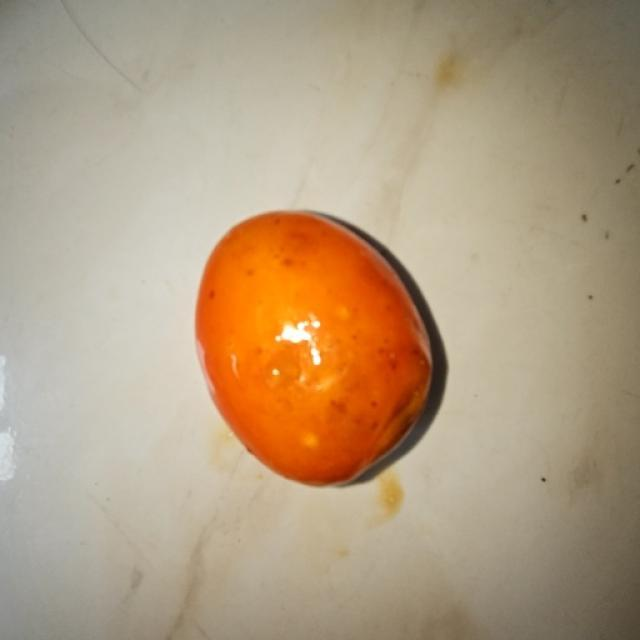Red: (192, 208, 434, 488)
